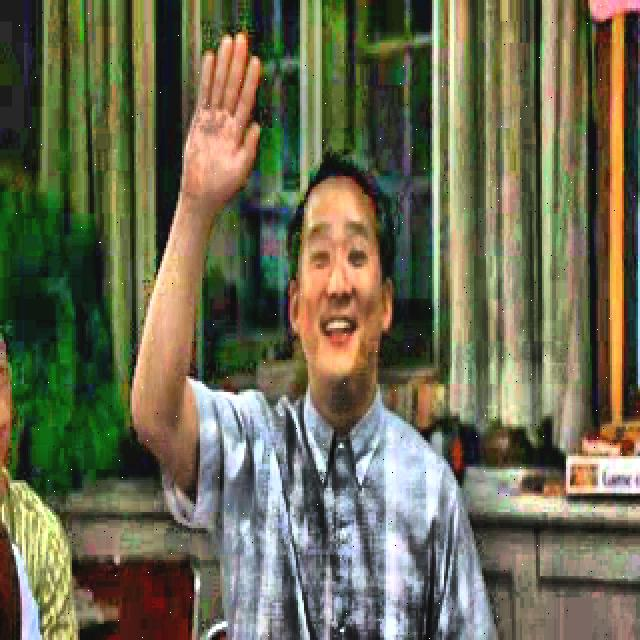T: (114, 7, 506, 640)
